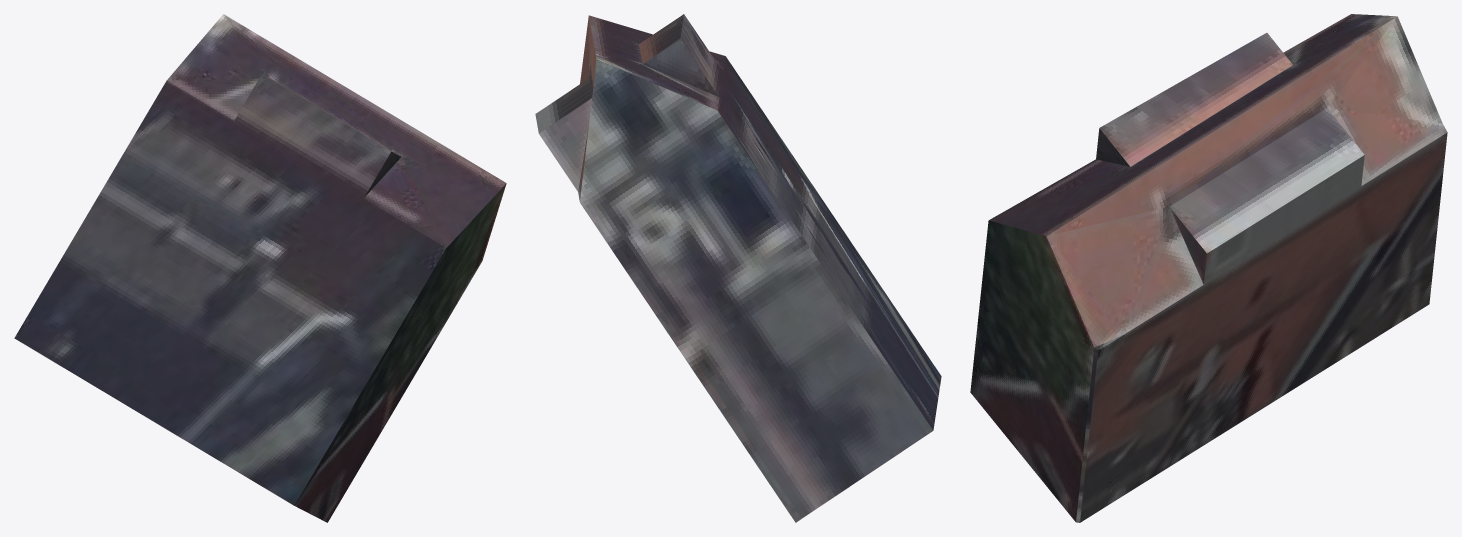
The picture shows the model from 3 angles, left to right: view 1: azimuth 30°, elevation 25°; view 2: azimuth 150°, elevation 25°; view 3: azimuth 270°, elevation 25°; orthographic projection. The views are drawn at different scales.
Parts seen in each view (by area): view 1: BAG_0599100010033192; view 2: BAG_0599100010033192; view 3: BAG_0599100010033192.
Boxes of the visible parts, <box> form: BAG_0599100010033192: <box>14,14,506,522</box>; BAG_0599100010033192: <box>535,14,941,522</box>; BAG_0599100010033192: <box>970,14,1447,522</box>.
Bounding box in the file's own units: 13.99 × 14.48 × 12.03.
Materials: 2 (1 with a texture image).
